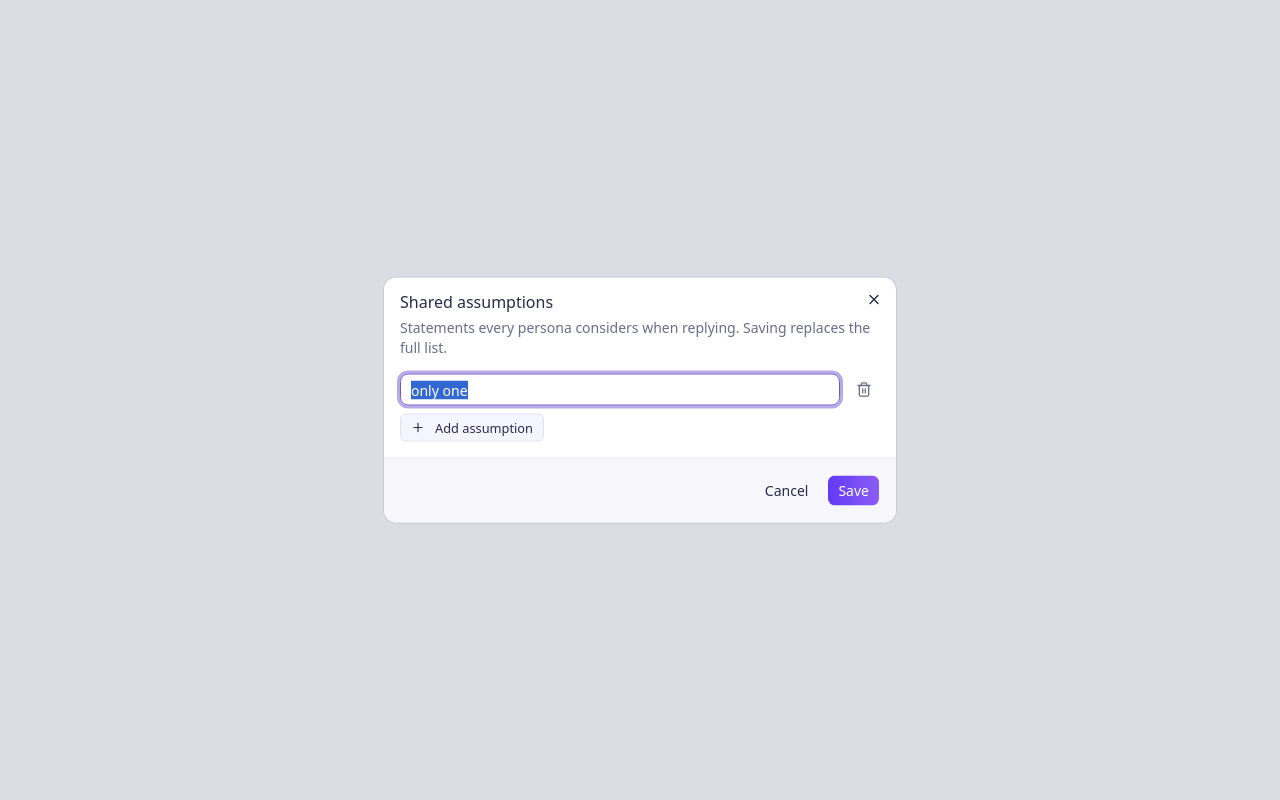
Test: AssumptionsDialog › adds a new empty assumption row
Check: the field showing "only one" is shown, box [400,374,840,406]
Click the button "Add assumption".
click(472, 428)  # box [400,414,544,442]
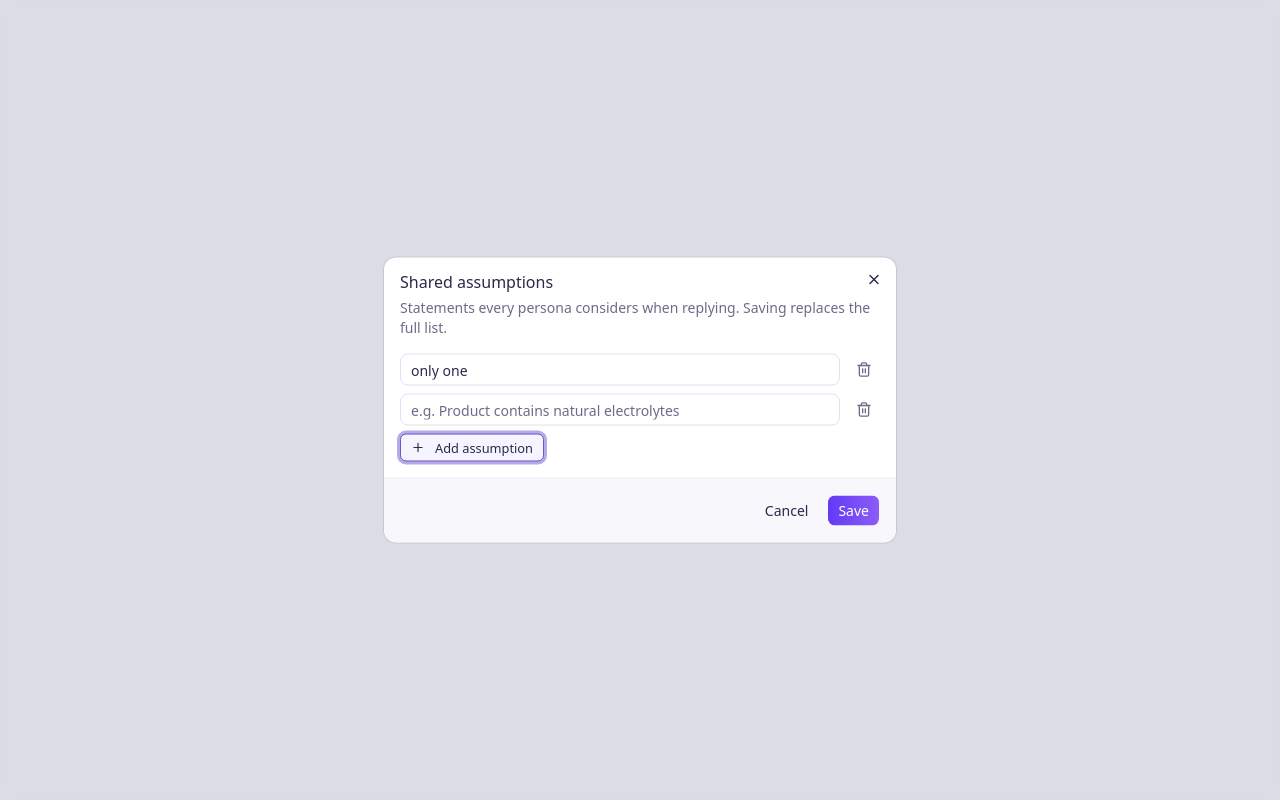
Check: the number of fields with placeholder "e.g. Product contains natural electrolytes" is 2, box [400,354,840,386]; [400,394,840,426]
